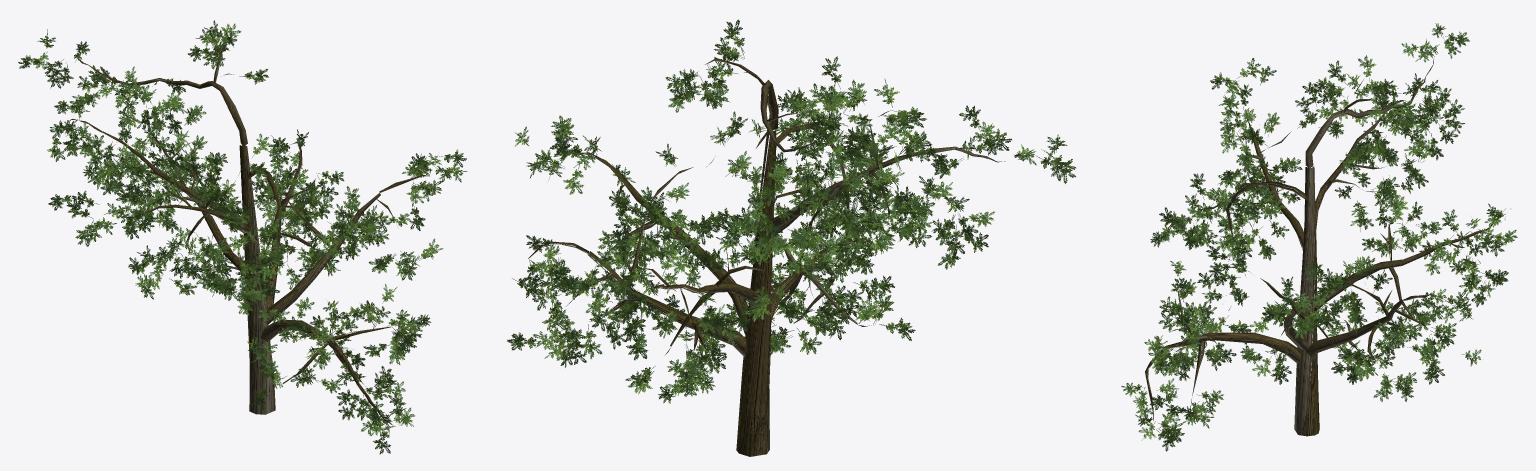
File: tree__v01.glb
The picture shows the model from 3 angles, left to right: view 1: azimuth 30°, elevation 25°; view 2: azimuth 150°, elevation 25°; view 3: azimuth 270°, elevation 25°; orthographic projection. The views are drawn at different scales.
Parts seen in each view (by area): view 1: Tree; view 2: Tree; view 3: Tree.
Part boxes in pixels (<box>): Tree: <box>18,20,467,454</box>; Tree: <box>507,19,1076,456</box>; Tree: <box>1121,23,1517,451</box>.
Bounding box in the file's own units: 73.94 × 60.9 × 62.06.
Materials: 2 (2 with a texture image).
